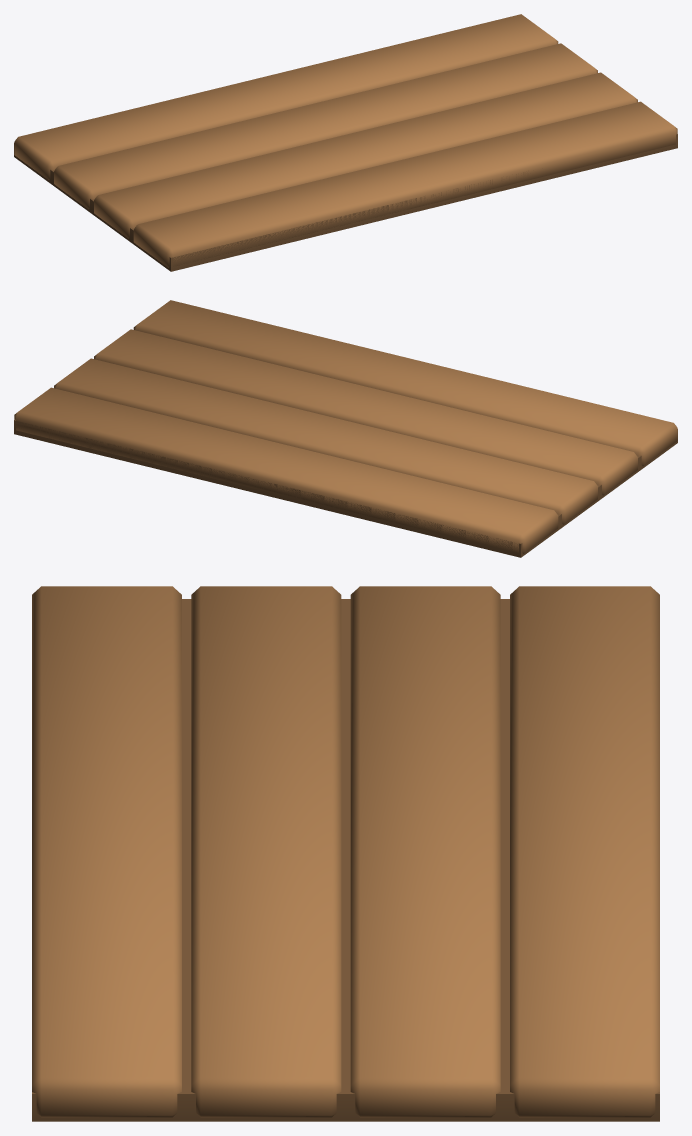
File: SM_GarageCab_Top_10.glb
3 views of the same model, one above another, from view 1: azimuth 30°, elevation 25°; view 2: azimuth 150°, elevation 25°; view 3: azimuth 270°, elevation 25° (orthographic). The views are drawn at different scales.
Visible parts, largest first — view 1: SM_GarageCab_Top_10; view 2: SM_GarageCab_Top_10; view 3: SM_GarageCab_Top_10.
Part boxes in pixels (x1=…): SM_GarageCab_Top_10: x1=14, y1=14, x2=677, y2=271; SM_GarageCab_Top_10: x1=14, y1=300, x2=677, y2=557; SM_GarageCab_Top_10: x1=32, y1=586, x2=659, y2=1121.
Bounding box in the file's own units: 1 × 0.04 × 0.532.
1 material, 1 textured.
